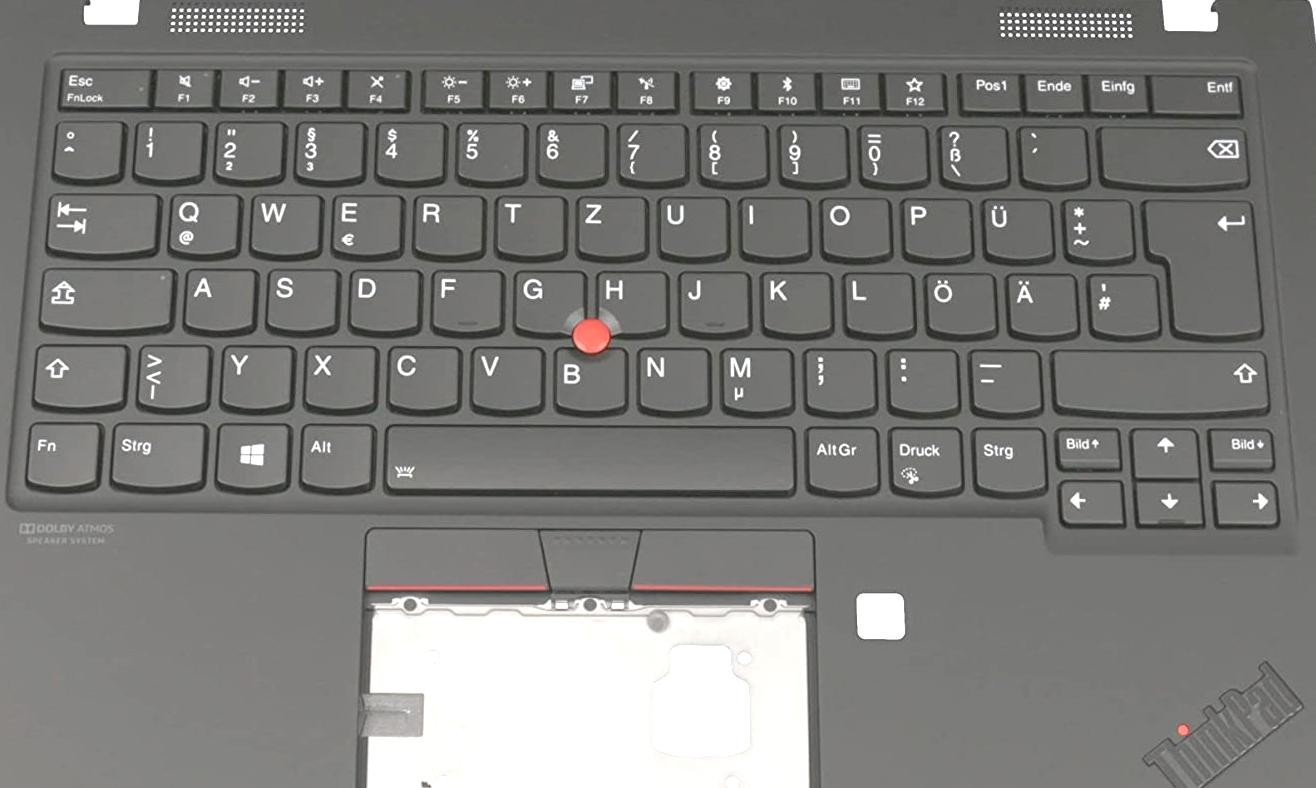0: (853, 120, 927, 184)
1: (130, 116, 202, 179)
2: (209, 117, 282, 180)
3: (290, 117, 363, 181)
4: (372, 118, 443, 181)
5: (451, 118, 524, 181)
6: (532, 119, 605, 182)
7: (614, 119, 685, 181)
8: (693, 120, 766, 183)
9: (774, 120, 846, 183)
a: (181, 264, 254, 330)
accent: (1015, 121, 1086, 184)
ae: (1003, 269, 1077, 336)
alt-left: (294, 419, 371, 489)
altgr-right: (800, 421, 876, 492)
b: (549, 343, 626, 411)
c: (383, 341, 459, 410)
caret: (49, 116, 120, 177)
comma: (800, 343, 874, 412)
d: (345, 265, 418, 333)
del: (1097, 122, 1250, 186)
e: (326, 190, 401, 256)
enter: (1141, 194, 1263, 337)
f: (427, 265, 501, 332)
g: (510, 266, 583, 333)
h: (592, 267, 667, 333)
hash: (1084, 269, 1157, 336)
i: (736, 193, 808, 257)
j: (675, 266, 748, 333)
k: (757, 267, 831, 334)
keyboard: (1, 51, 1298, 548)
l: (840, 267, 912, 334)
less: (132, 339, 209, 408)
m: (716, 344, 792, 413)
minus: (963, 345, 1040, 412)
n: (633, 343, 708, 412)
o: (816, 193, 889, 259)
oe: (920, 268, 995, 336)
p: (898, 194, 971, 259)
plus: (1059, 194, 1131, 260)
point: (882, 344, 957, 412)
q: (163, 189, 238, 255)
r: (409, 191, 484, 257)
s: (262, 264, 337, 331)
shift-left: (27, 339, 125, 407)
shift-lock: (34, 263, 173, 330)
shift-right: (1047, 344, 1269, 413)
space: (379, 420, 796, 492)
ss: (934, 121, 1007, 184)
strg-left: (105, 418, 207, 489)
strg-right: (967, 422, 1045, 494)
t: (492, 191, 564, 257)
tab: (42, 188, 156, 253)
u: (654, 192, 727, 258)
ue: (979, 194, 1052, 261)
v: (468, 342, 542, 410)
w: (246, 189, 319, 255)
x: (301, 341, 375, 410)
y: (217, 341, 292, 409)
z: (573, 191, 646, 258)
